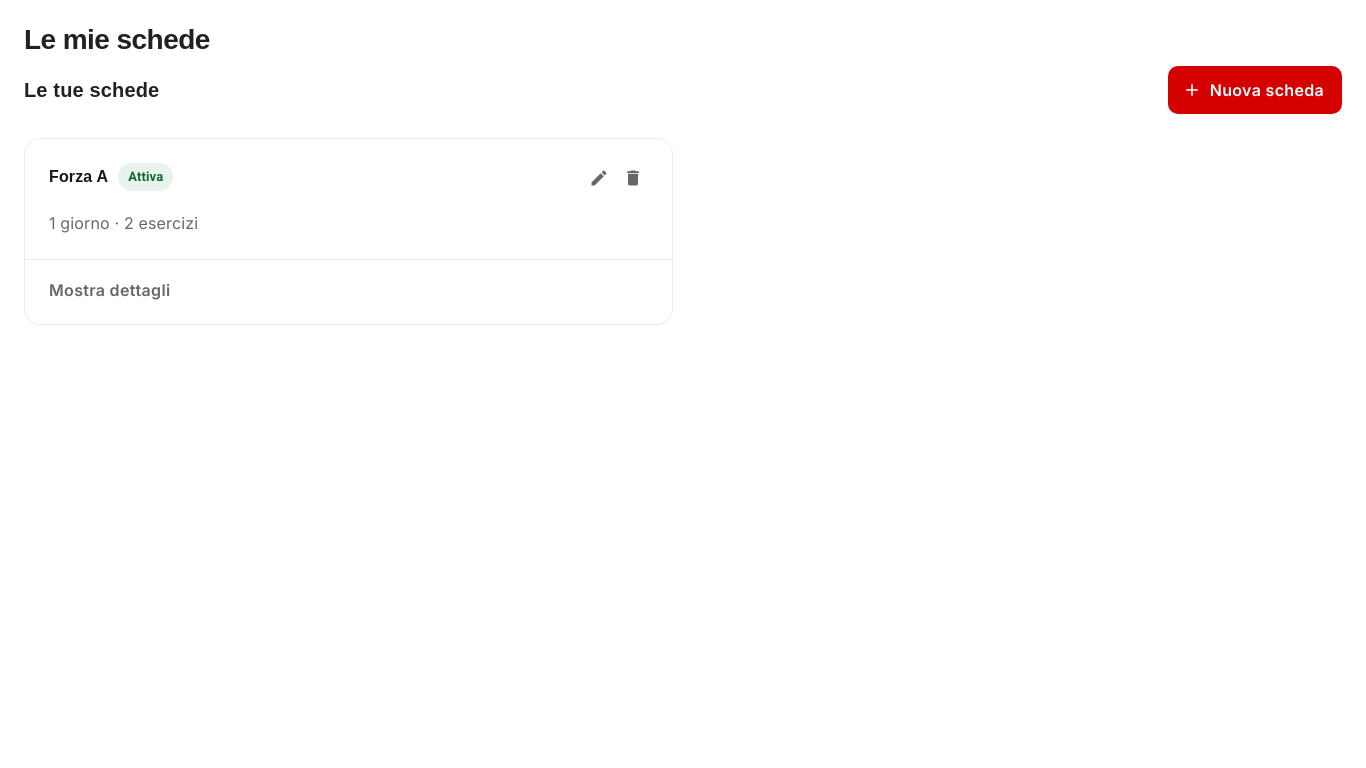
Scenario: serie pianificate (#77) › con un valore non valido "Salva modifiche" è disabilitato
Click the button "Mostra dettagli" at {"x": 110, "y": 290}, box [49,276,170,304]
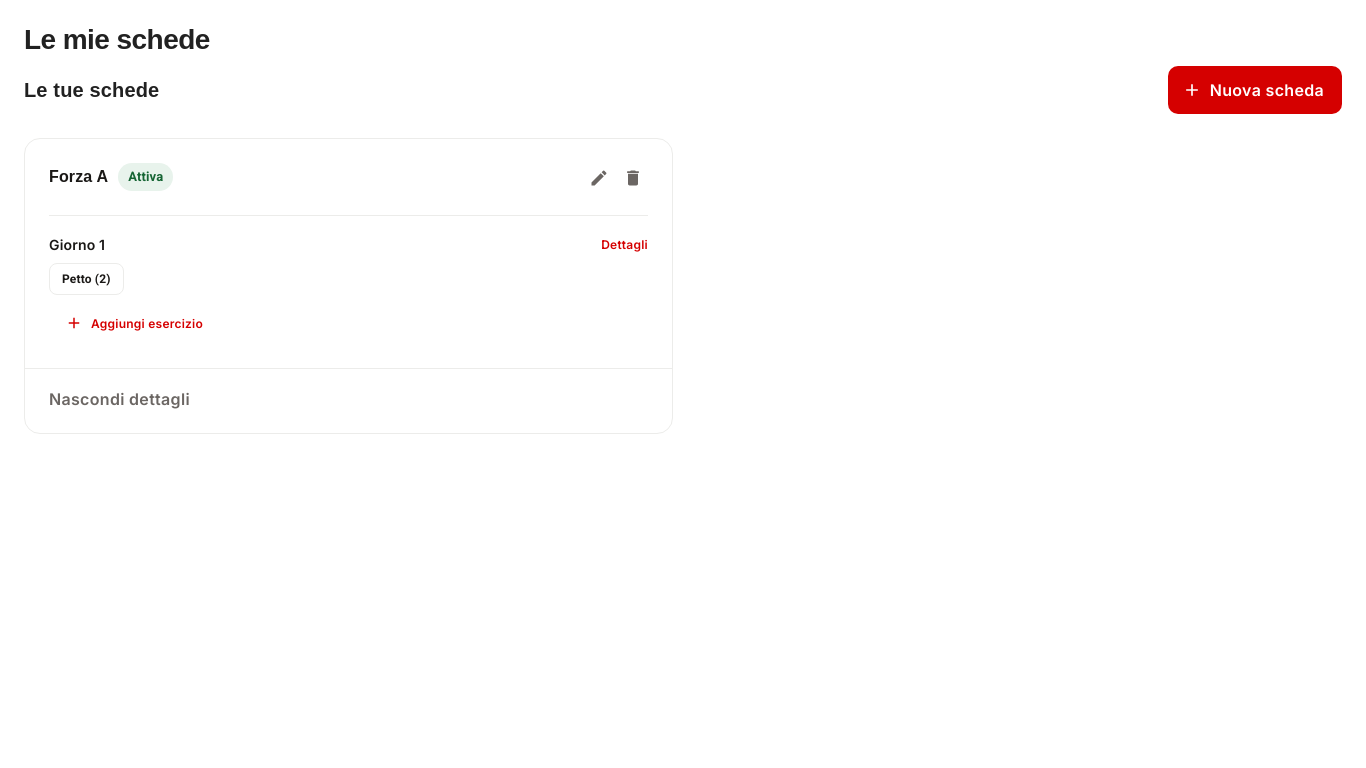
Click the button "Dettagli" at {"x": 625, "y": 244}, box [601,234,648,255]
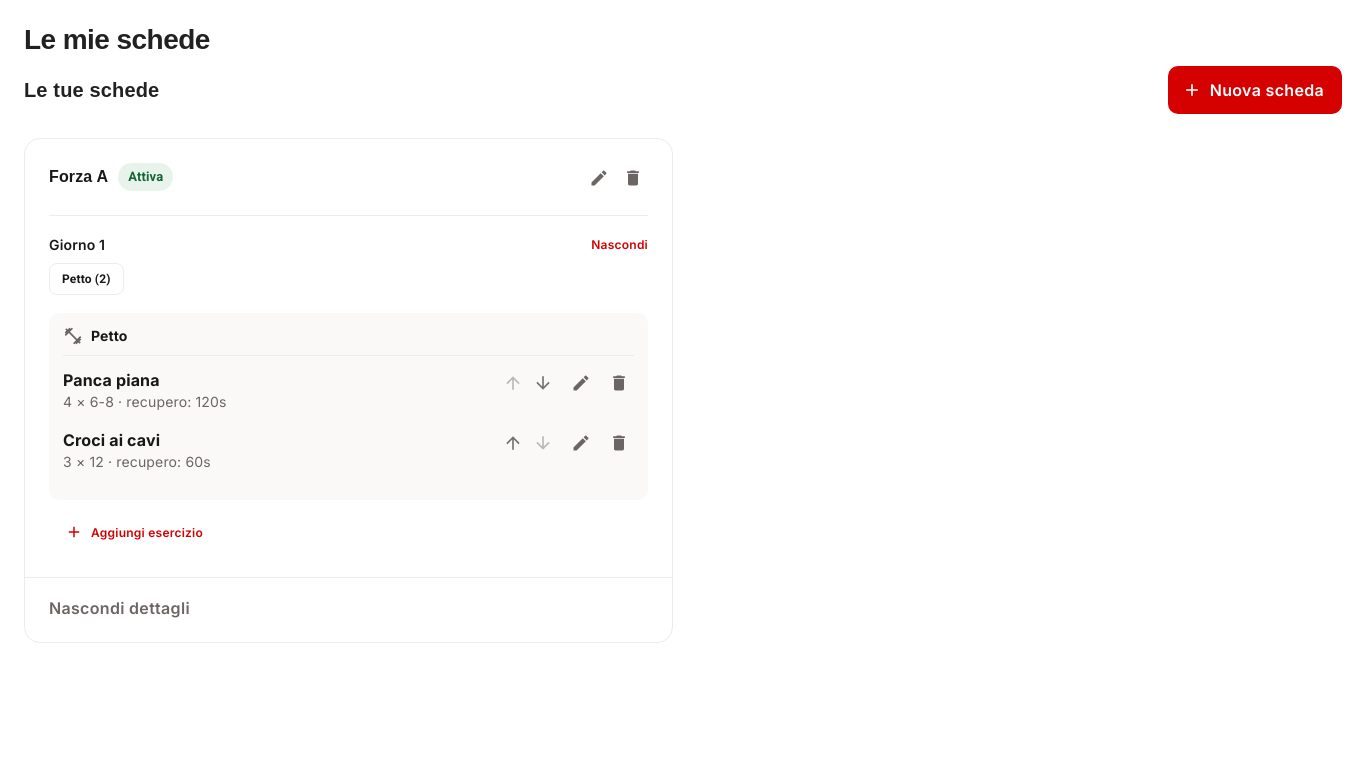
Expected: the text "Panca piana" is shown, [63,370,160,390]
Click the button named "Modifica esercizio" in the row of "4 × 6-8 · recupero: 120s" at {"x": 581, "y": 383}, box [566,368,596,398]
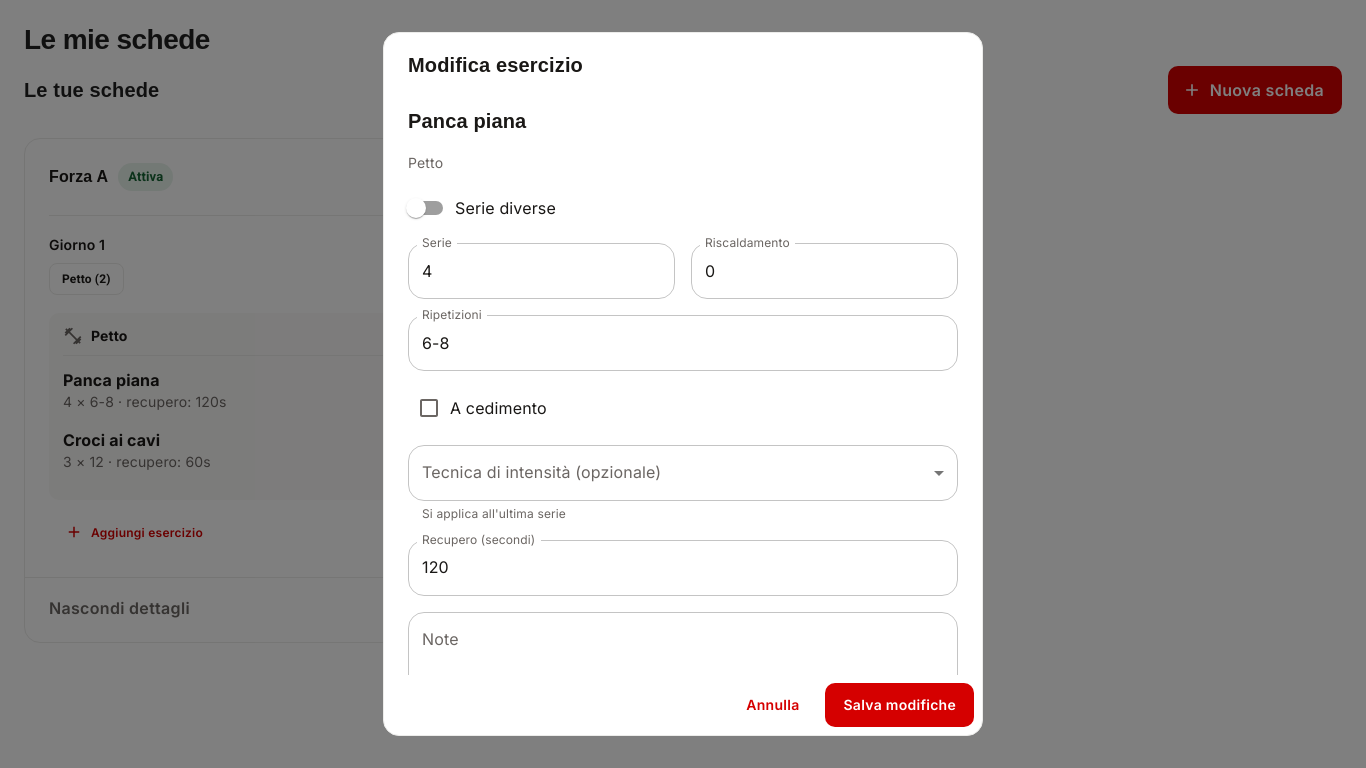
Replace the text in the field labelled "Ripetizioni" with "10-8" at {"x": 683, "y": 343}, box [408,315,958,371]
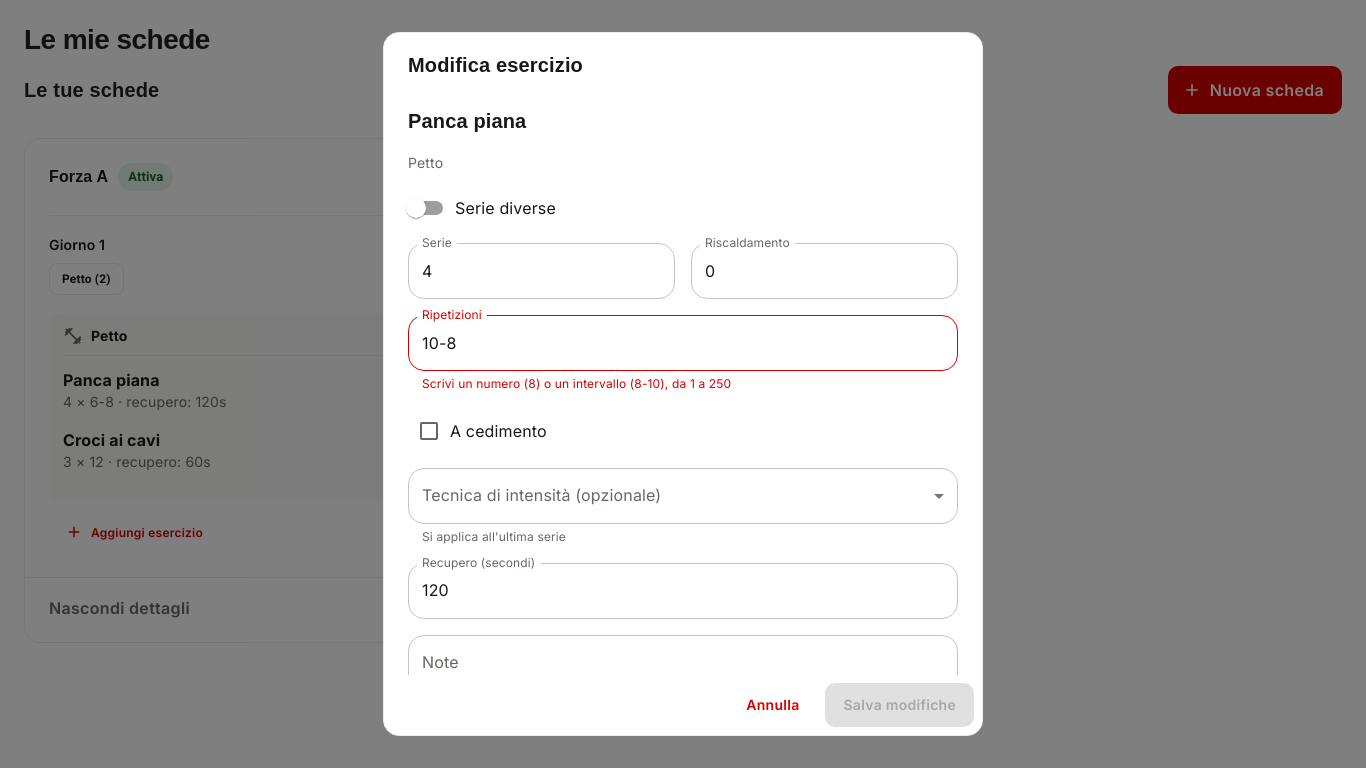
Expected: the button "Salva modifiche" is disabled, [826,682,974,727]
